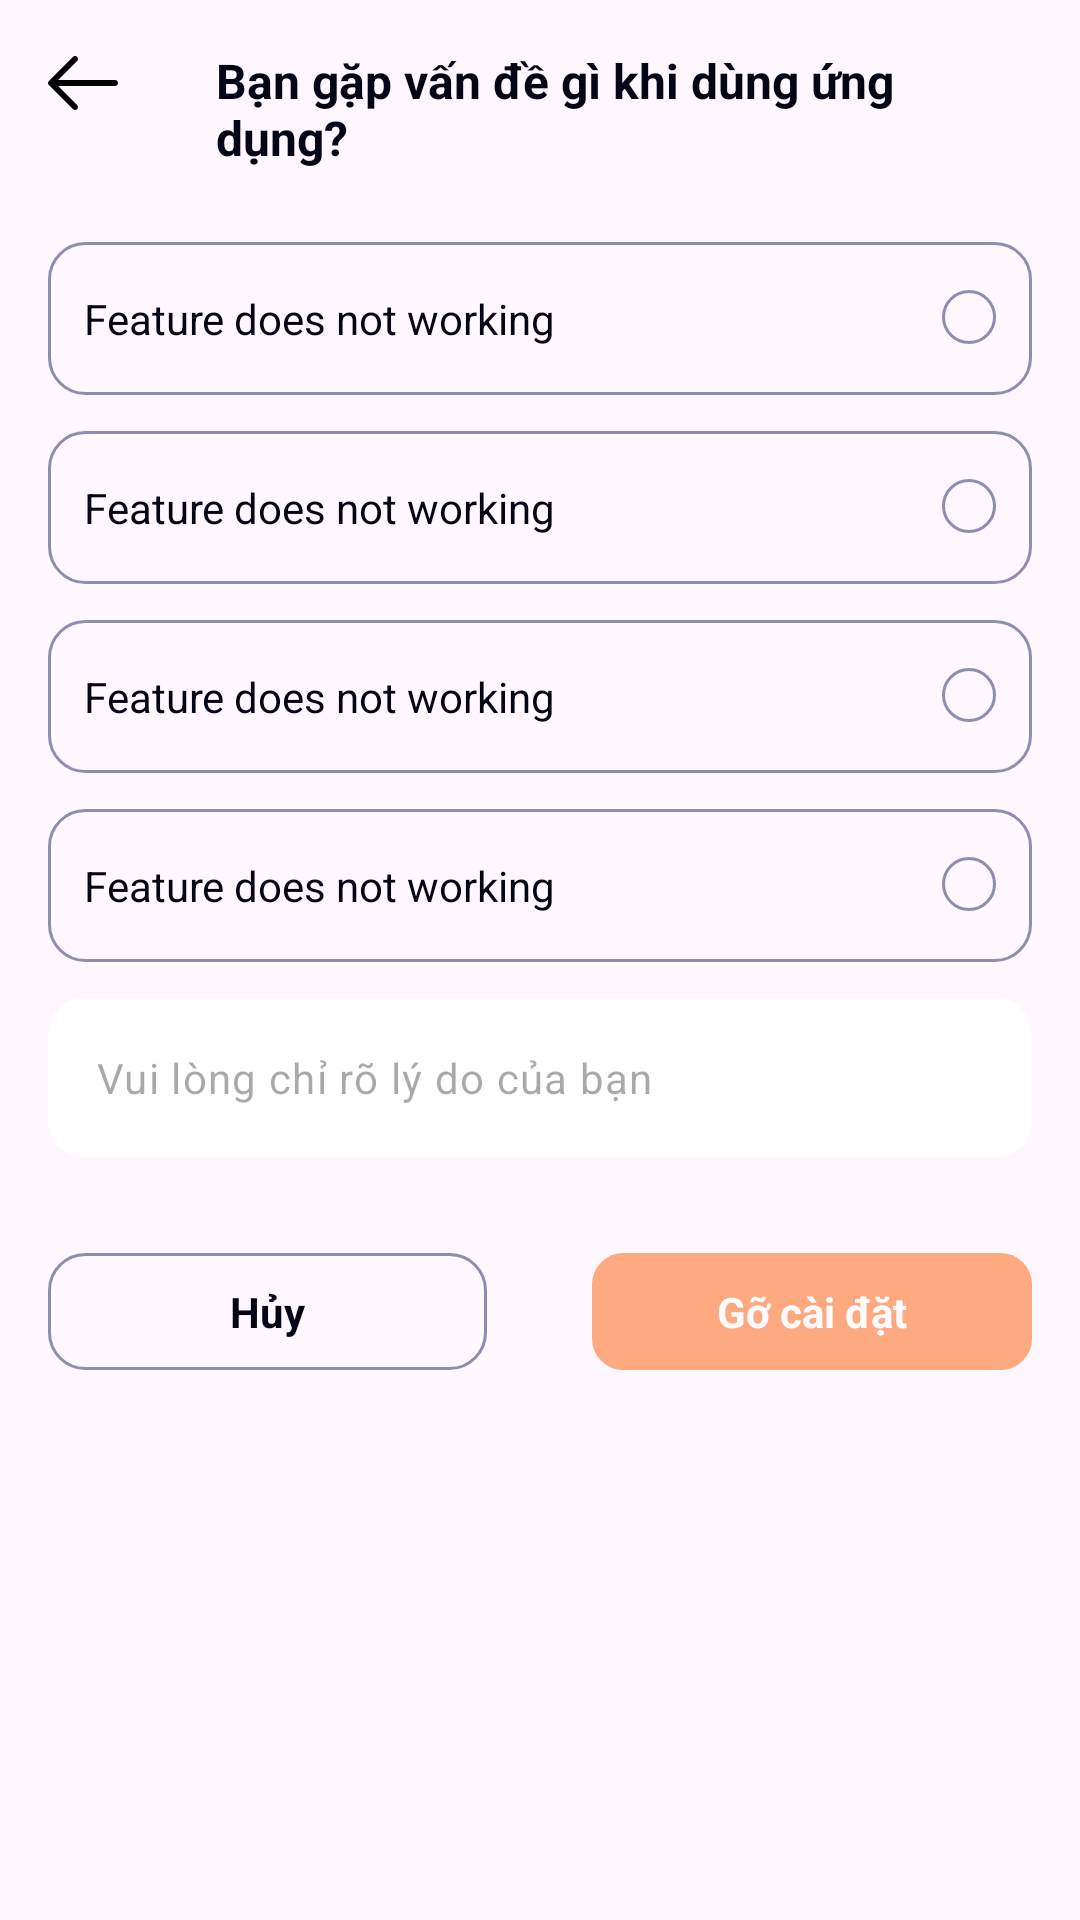

Icon bounding boxes for this 1080*1920 phone screenshot, format bbox(x1, y1, x2, y2):
feature request arrow left: bbox(48, 56, 118, 110)
